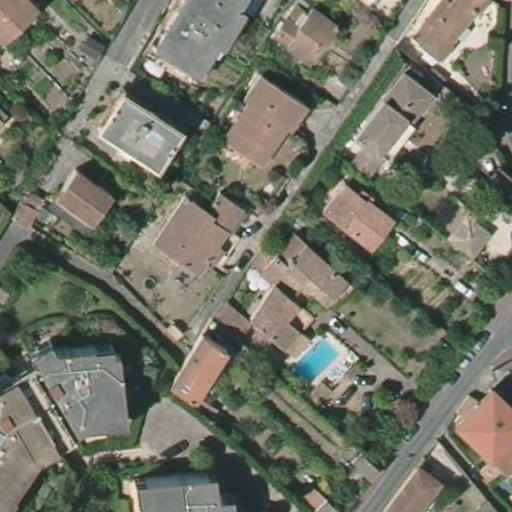pool: (285, 336, 339, 387)
